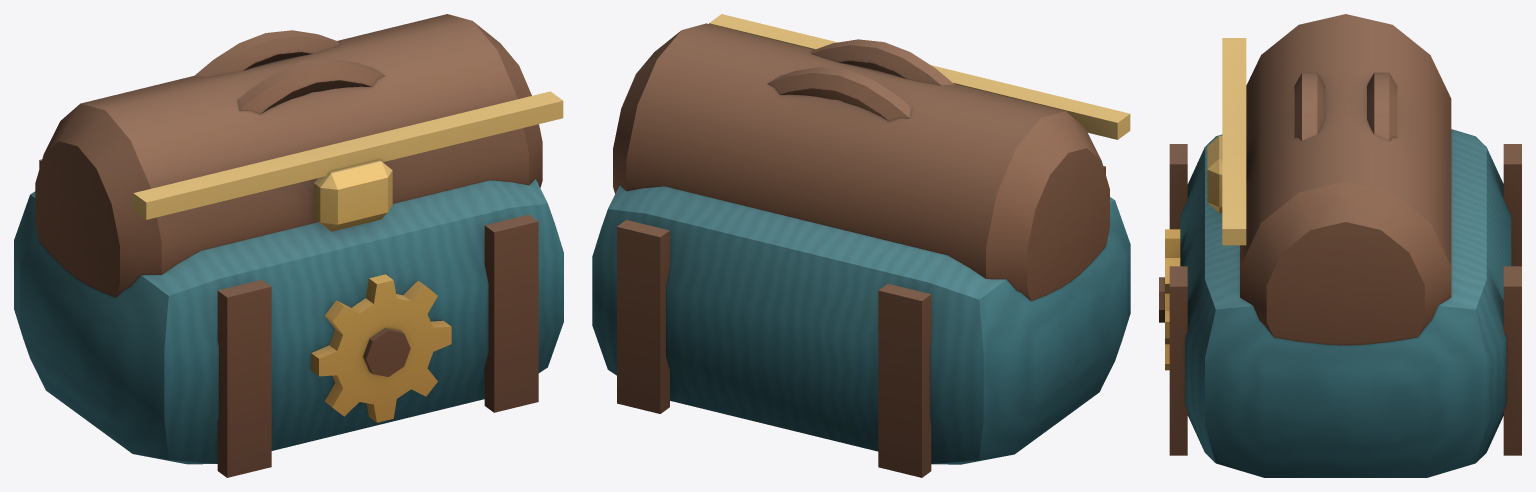
File: item_parts_bag.fbx
The picture shows the model from 3 angles, left to right: view 1: azimuth 30°, elevation 25°; view 2: azimuth 150°, elevation 25°; view 3: azimuth 270°, elevation 25°; orthographic projection. The views are drawn at different scales.
Visible parts, largest first — view 1: item_parts_bag; view 2: item_parts_bag; view 3: item_parts_bag.
Part boxes in pixels (box(x1,y1,x2,y2)): item_parts_bag: box(14, 14, 563, 477); item_parts_bag: box(592, 14, 1130, 477); item_parts_bag: box(1159, 14, 1521, 477).
Bounding box in the file's own units: 160 × 119 × 120.
1 material, 1 textured.
